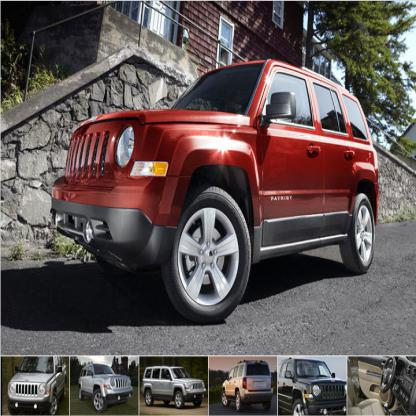Vehicle: (55, 59, 383, 325)
